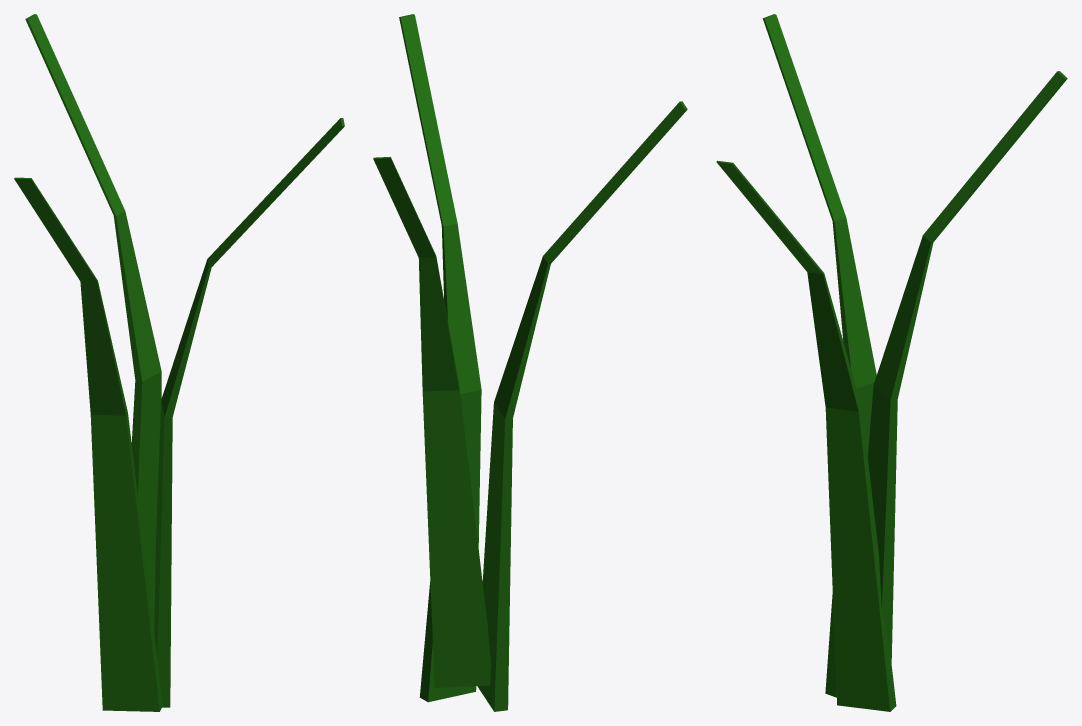
File: grass1.obj
The picture shows the model from 3 angles, left to right: view 1: azimuth 30°, elevation 25°; view 2: azimuth 150°, elevation 25°; view 3: azimuth 270°, elevation 25°; orthographic projection.
Parts seen in each view (by area): view 1: Cube.014_Cube.024; view 2: Cube.014_Cube.024; view 3: Cube.014_Cube.024.
Boxes of the visible parts, bbox=[...] form: Cube.014_Cube.024: bbox=[14, 14, 344, 711]; Cube.014_Cube.024: bbox=[373, 14, 687, 711]; Cube.014_Cube.024: bbox=[716, 14, 1067, 711].
Bounding box in the file's own units: 0.916 × 1.75 × 0.9014.
